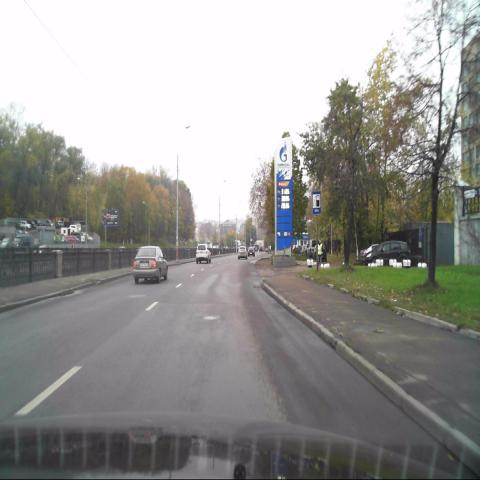7_3: (312, 192, 321, 214)
